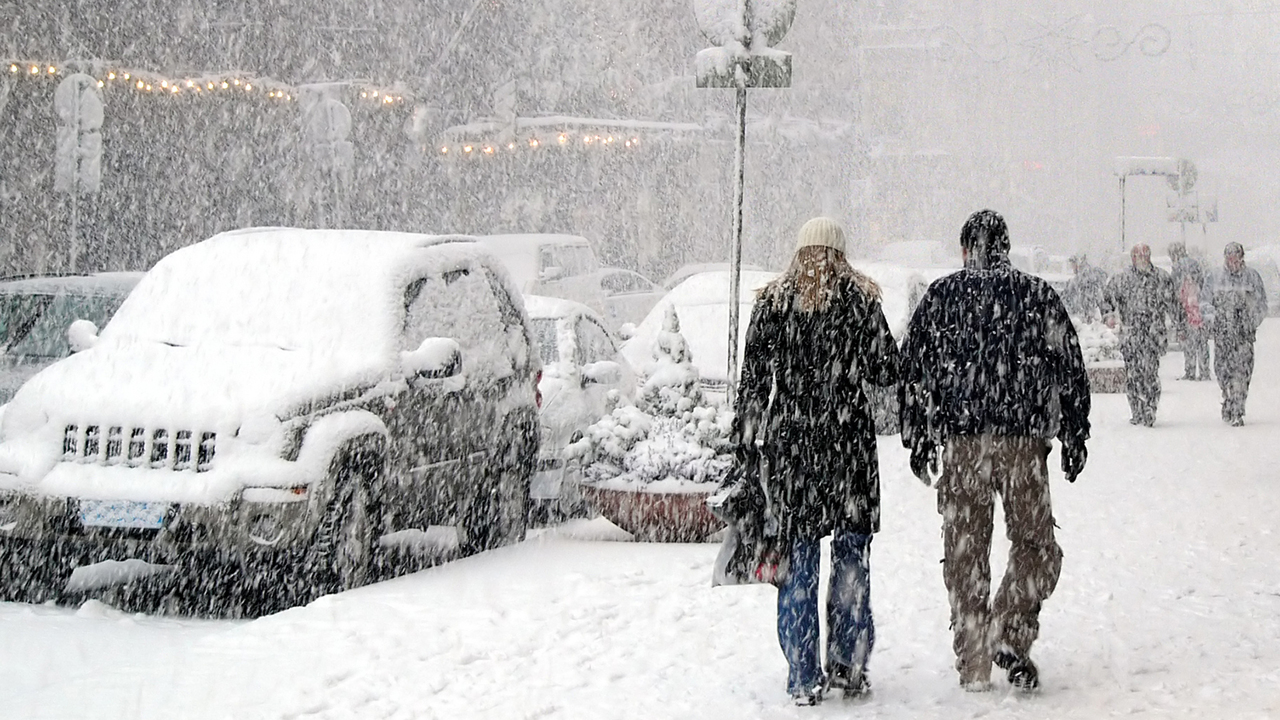car: (2, 230, 560, 550), (497, 297, 639, 527), (626, 281, 741, 410), (538, 266, 655, 336)
person: (907, 206, 1074, 685), (748, 220, 873, 706), (1106, 245, 1180, 425), (1210, 237, 1267, 423), (1164, 234, 1215, 381), (1061, 246, 1113, 329)
